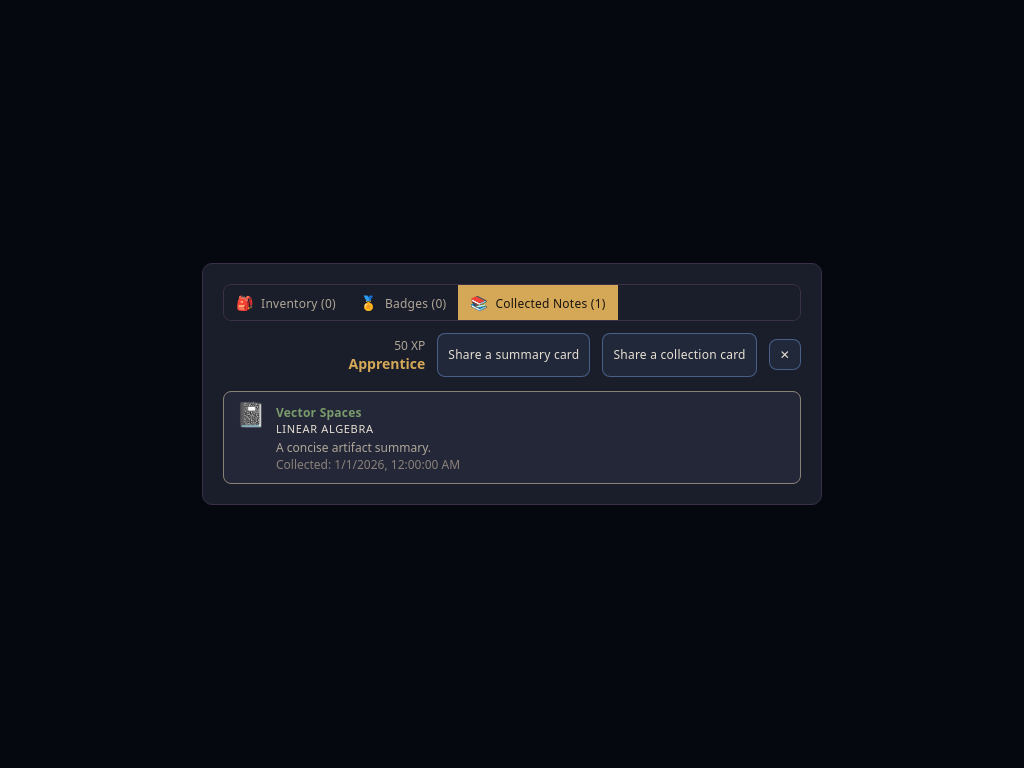
it: InventoryBadgesPanel › opens full collected note content from the diary list
This screenshot has width=1024, height=768.
What coordinates should you click on to do the following:
click the button "Vector Spaces"
I would click on:
 (319, 412)
Its box is [276,404,362,421].
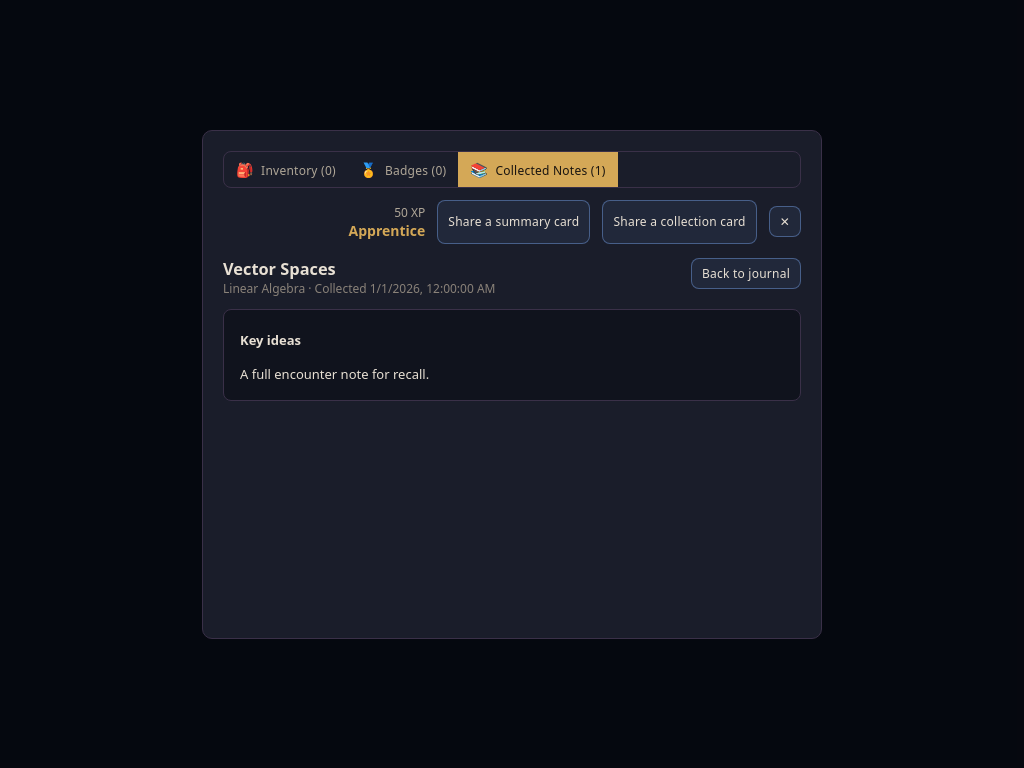
Expected: the text "A full encounter note for recall." is shown, [240,365,429,383]
Expected: the button "Back to journal" is shown, [691,258,801,288]
